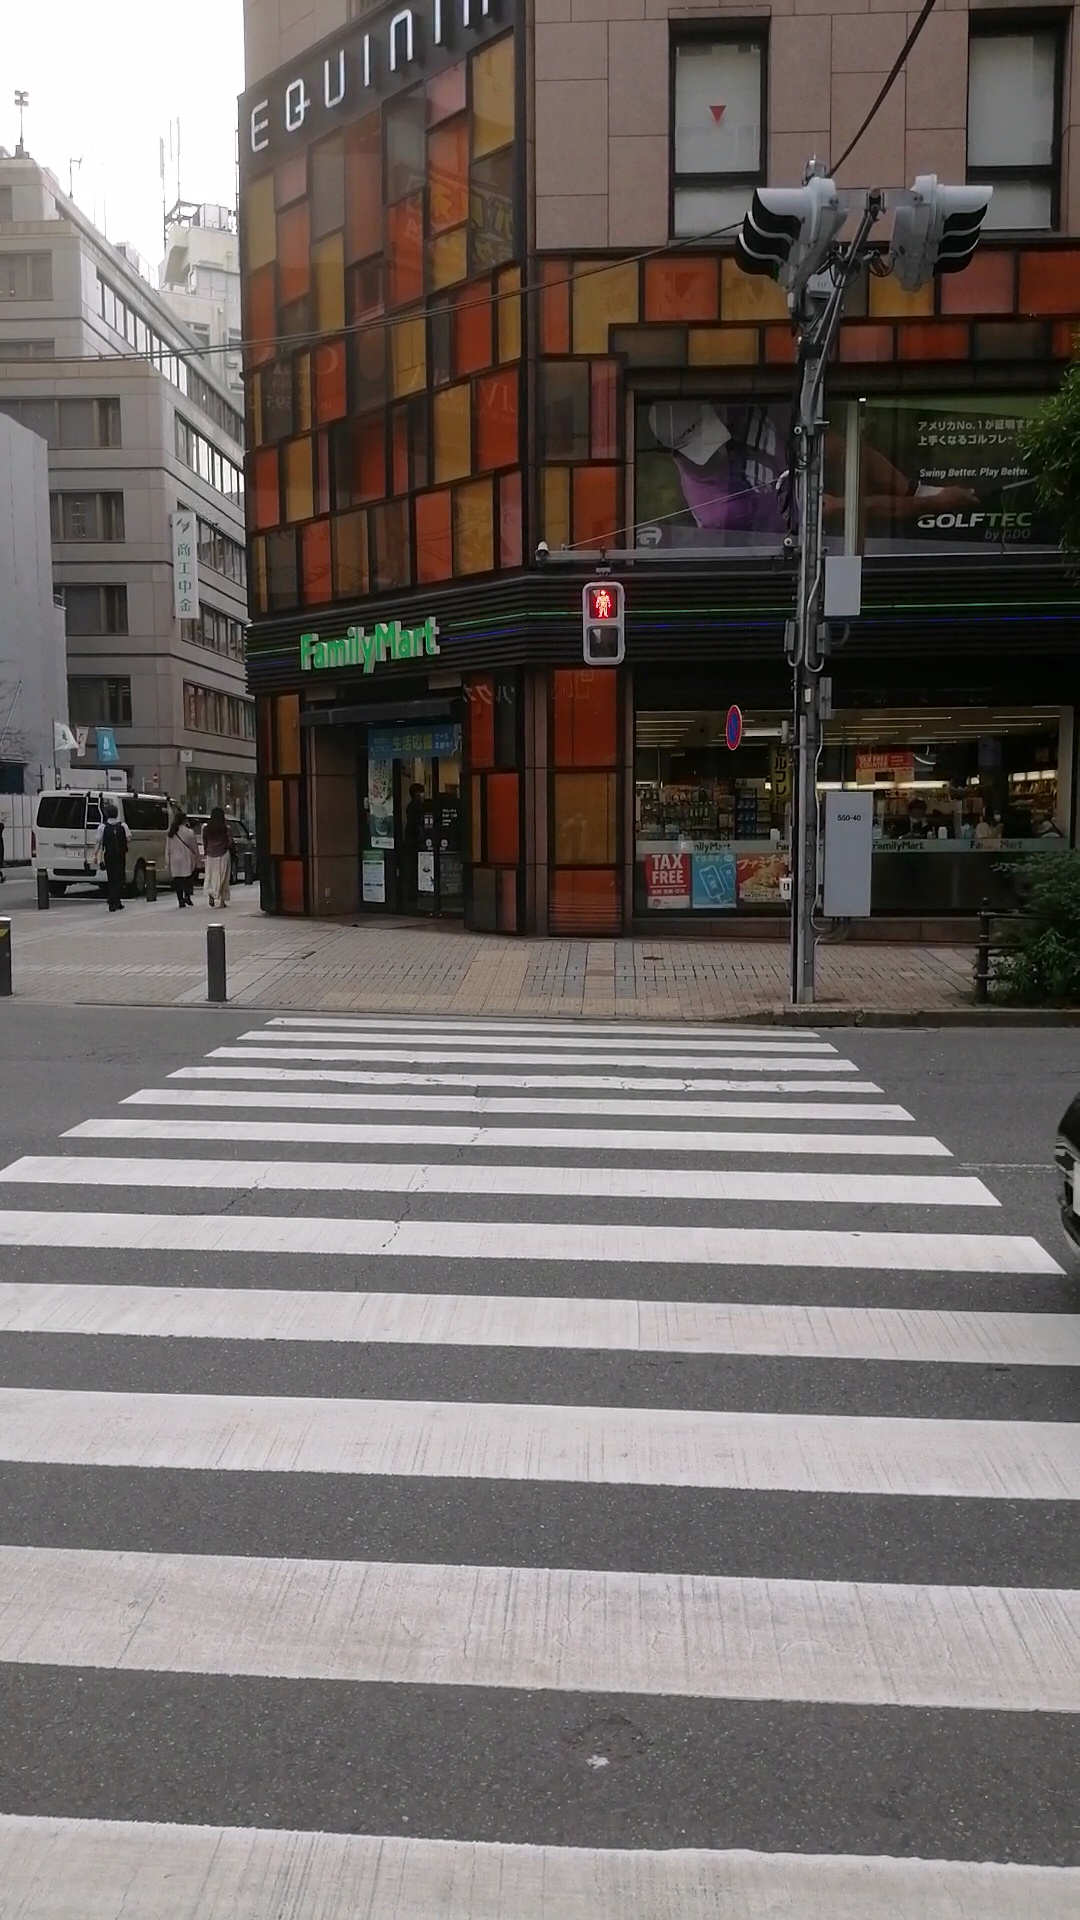red: (578, 580, 626, 665)
